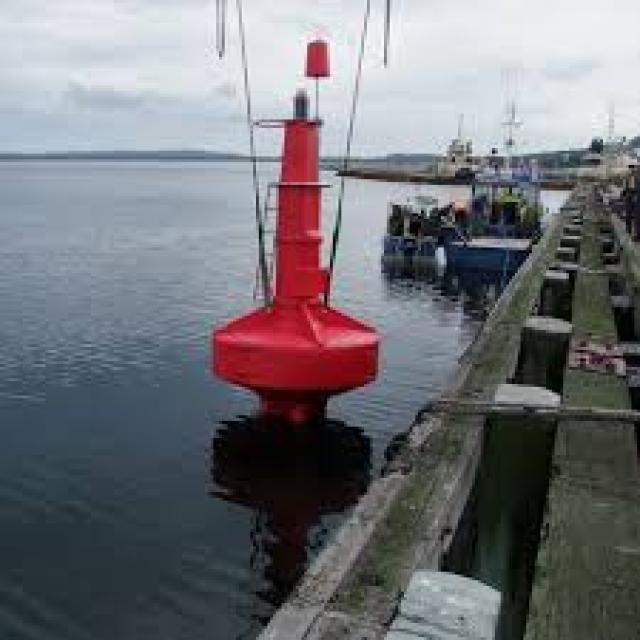buoy: (220, 20, 384, 418)
